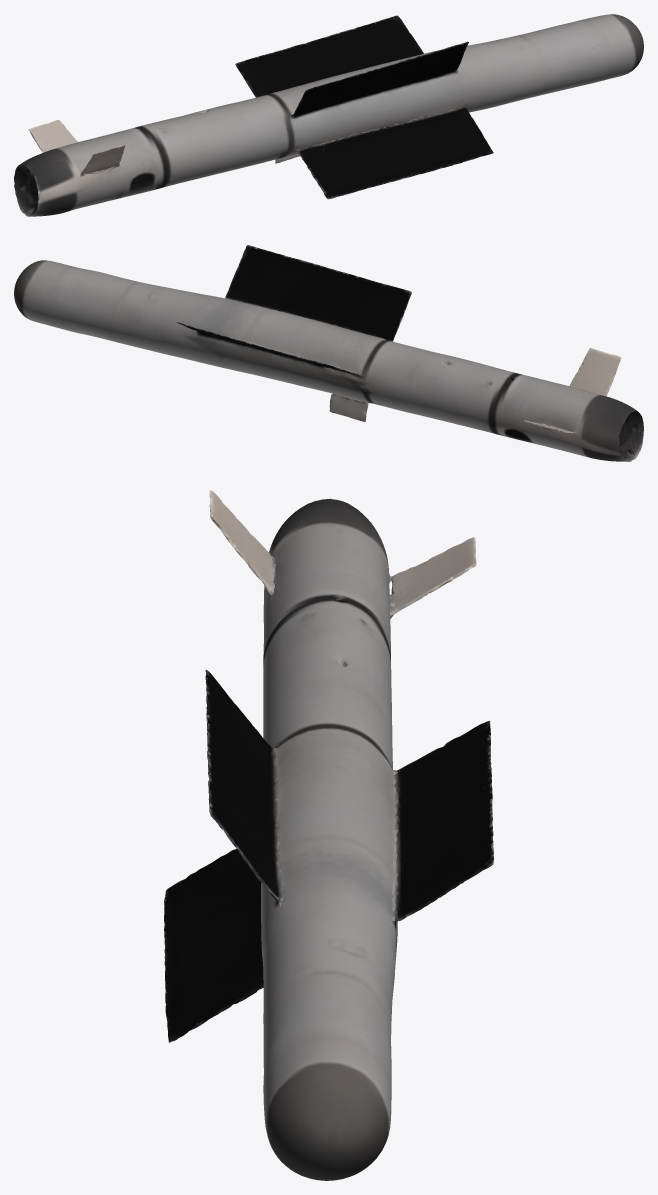
The model's file is HJ_10_Missile_AI_Rodin.glb.
3 views of the same model, one above another, from view 1: azimuth 30°, elevation 25°; view 2: azimuth 150°, elevation 25°; view 3: azimuth 270°, elevation 25° (orthographic). The views are drawn at different scales.
Visible parts, largest first — view 1: HJ_10_Missile; view 2: HJ_10_Missile; view 3: HJ_10_Missile.
Boxes of the visible parts, left/top/right/bottom form: HJ_10_Missile: left=14, top=14, right=643, bottom=216; HJ_10_Missile: left=14, top=245, right=643, bottom=461; HJ_10_Missile: left=164, top=490, right=493, bottom=1180.
Size of the model in its own units: 1.92 by 0.3374 by 0.4461.
Materials: 1 (1 with a texture image).
